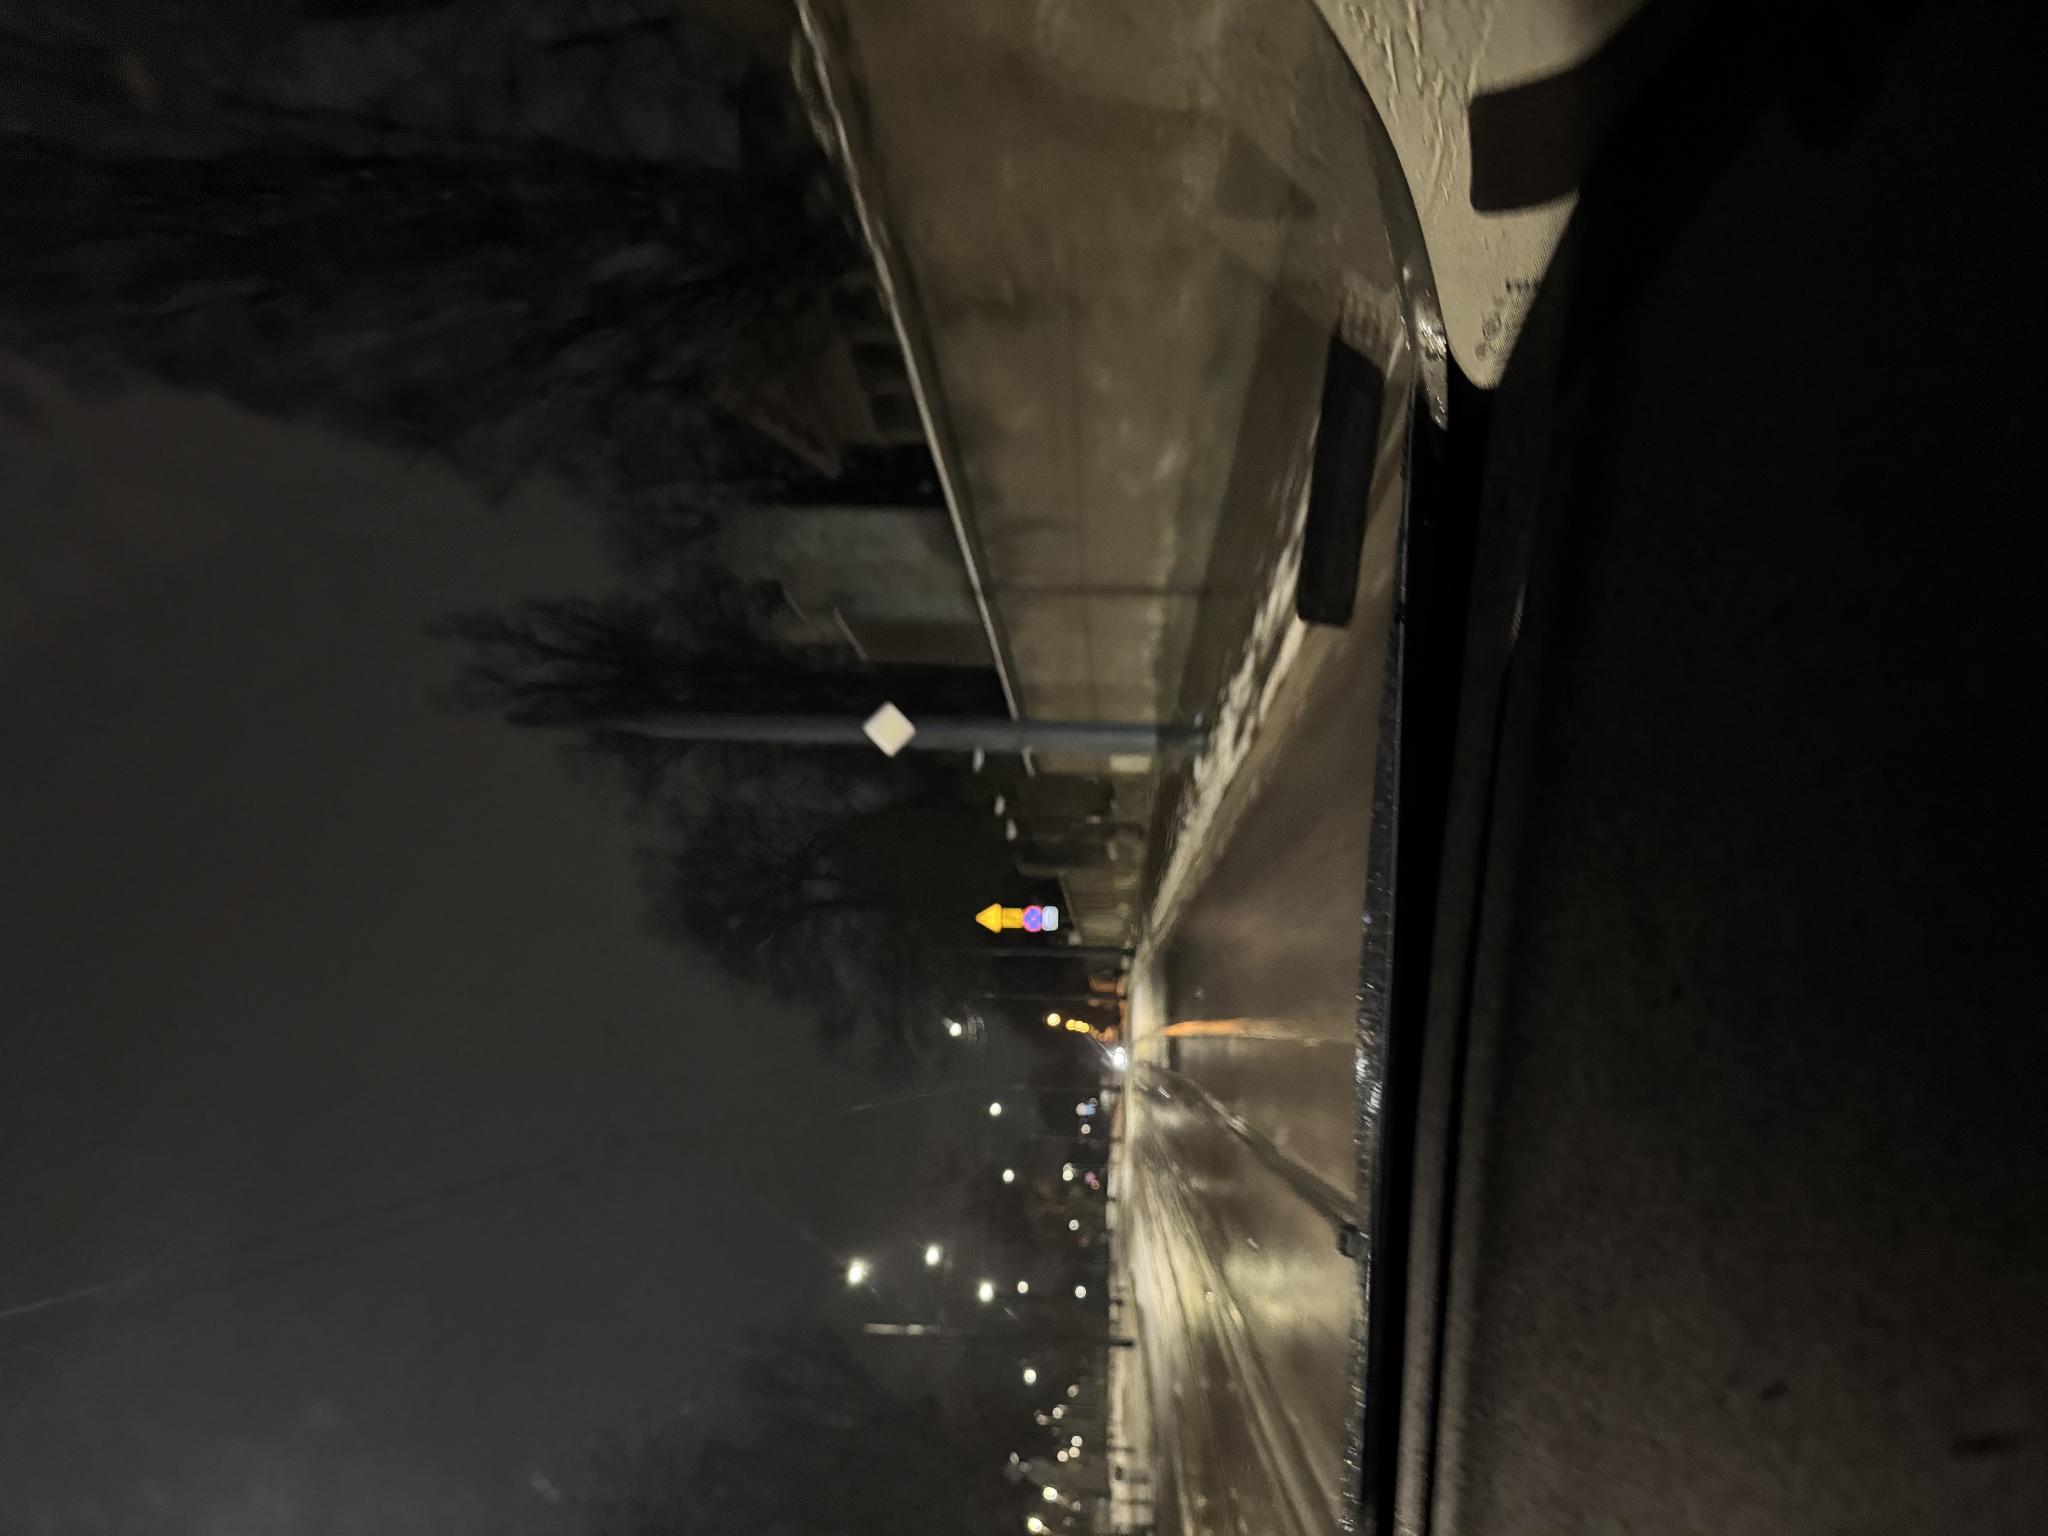information: (777, 863, 834, 916)
other: (605, 1042, 631, 1060), (606, 1004, 629, 1023)
prohibitory: (605, 1021, 632, 1042)
warning: (603, 975, 635, 1002)
